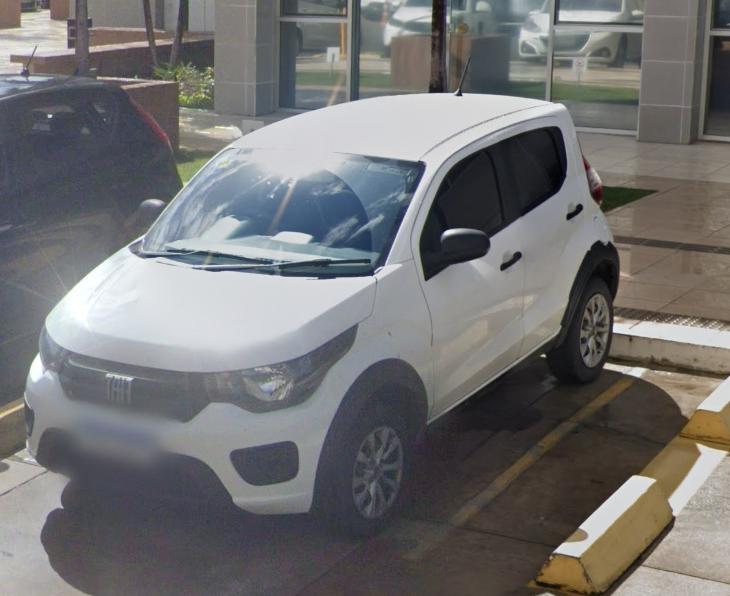car: (28, 91, 626, 533)
